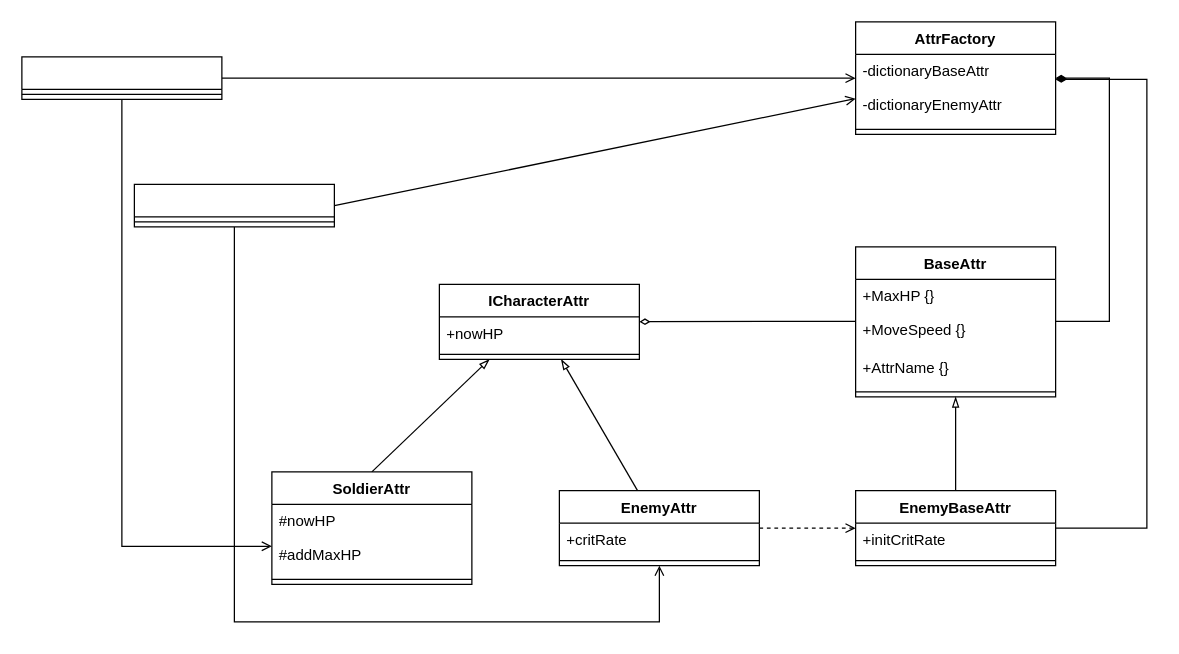
The diagram is 1179 pixels wide and 654 high, and some of its shapes have lost their labels. The shapes that lost their labels are listed below. From the top down, each one's centre as x and y in pixels, then its label:
the point at 121,77: SoldierBuilder
the point at 233,205: EnemyBuilder
